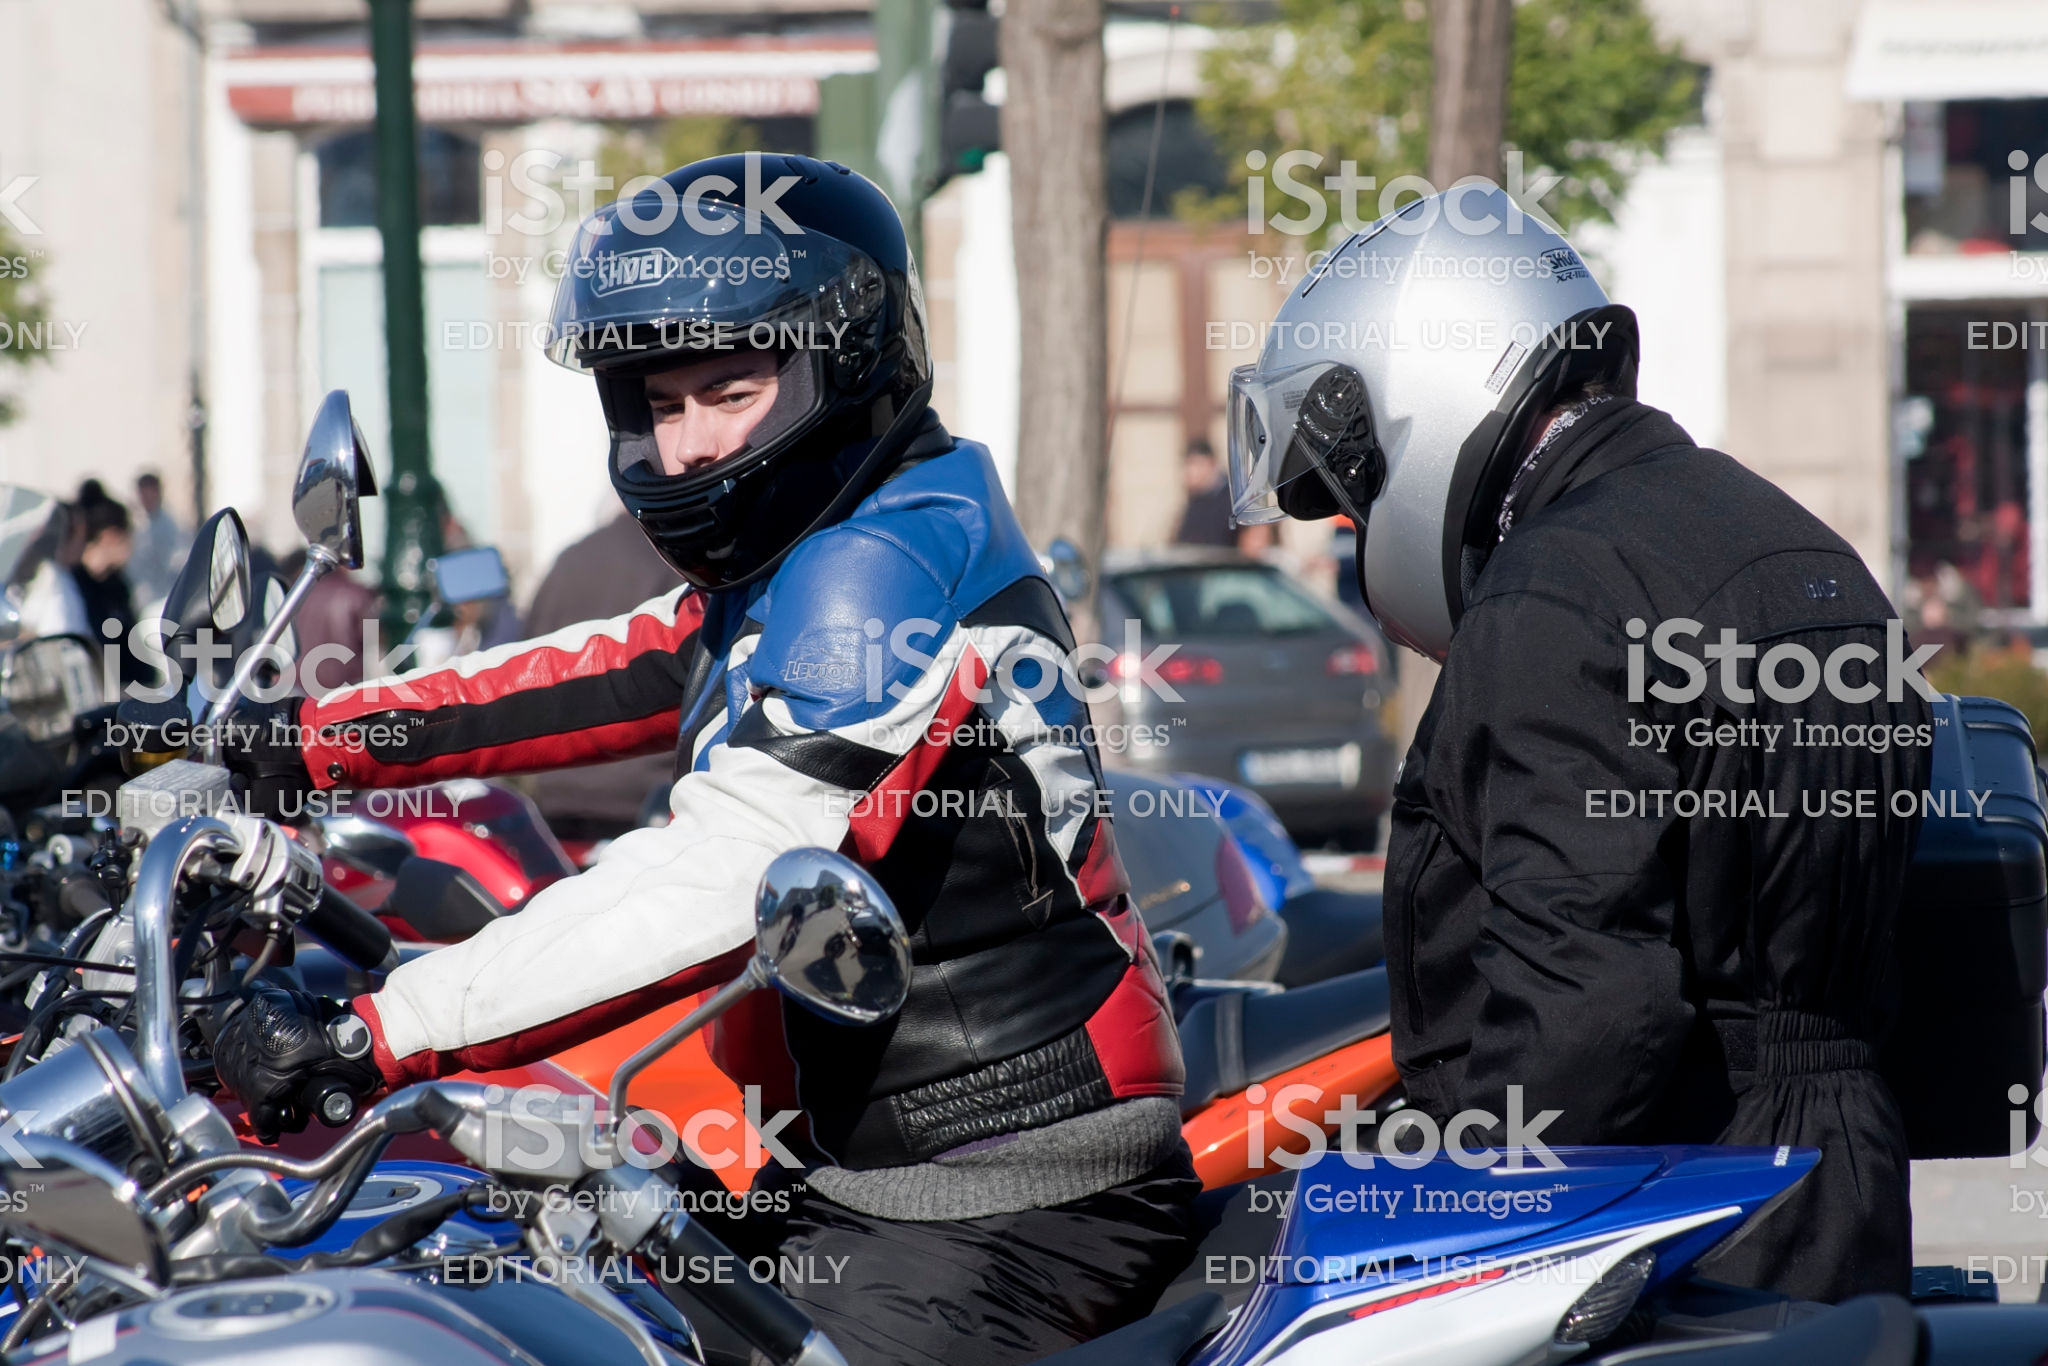helmet: (1202, 201, 1617, 590), (552, 152, 939, 537)
